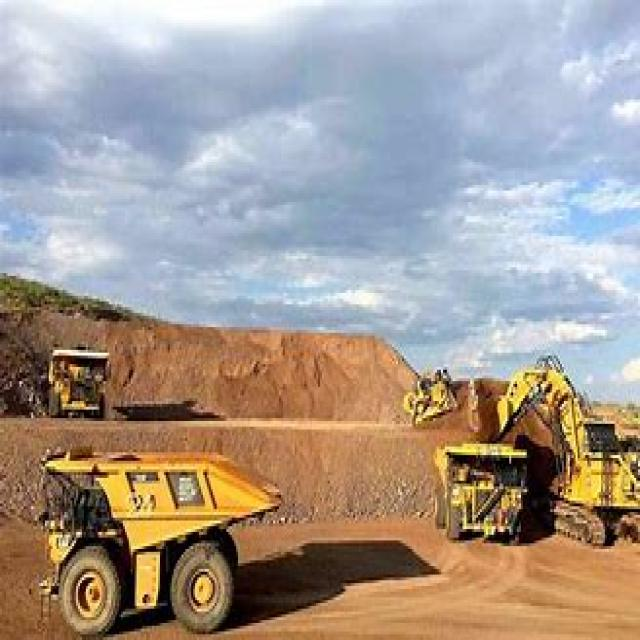dump_truck: (33, 444, 279, 631), (429, 432, 535, 549), (39, 342, 111, 416)
